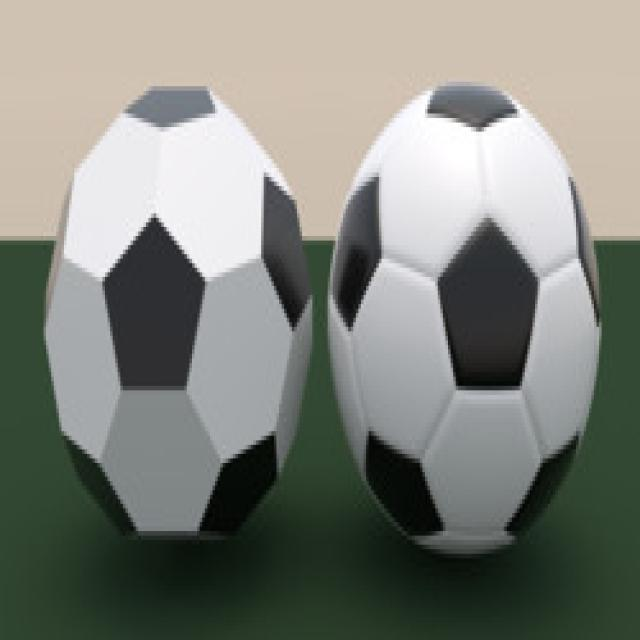ball: (328, 82, 604, 562)
